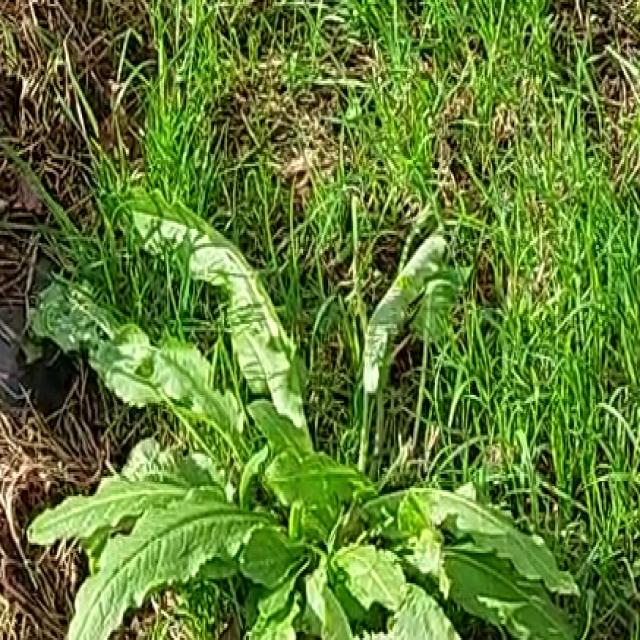organic waste: (34, 194, 584, 640)
